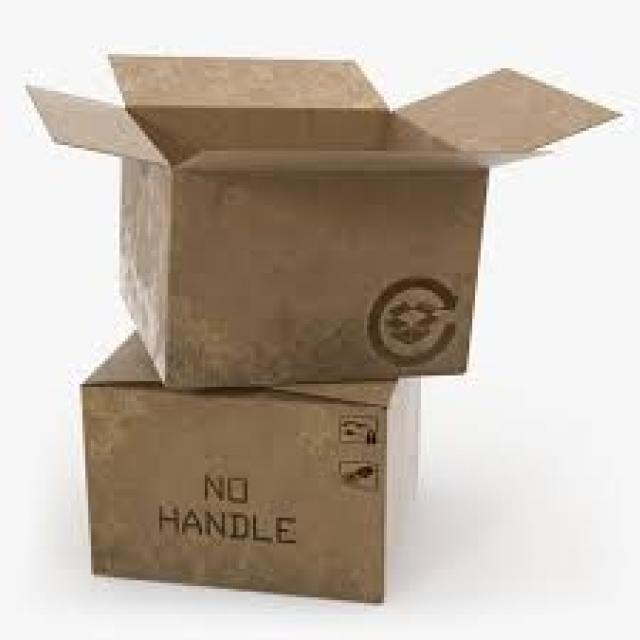cardboard paper: (27, 54, 613, 600), (27, 54, 614, 385), (82, 335, 390, 600)
